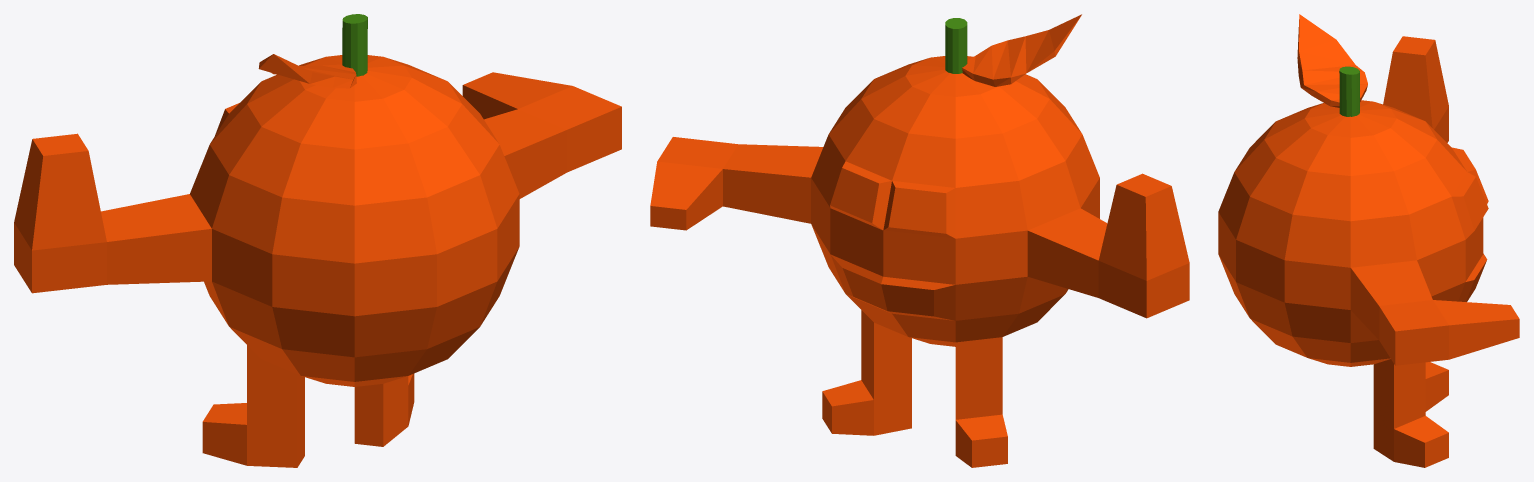
The model's file is Naranja 1.fbx.
3 views of the same model, side by side, from view 1: azimuth 30°, elevation 25°; view 2: azimuth 150°, elevation 25°; view 3: azimuth 270°, elevation 25° (orthographic). The views are drawn at different scales.
Parts seen in each view (by area): view 1: Sphere; view 2: Sphere; view 3: Sphere.
Part boxes in pixels (x1,y1,x2,y2): Sphere: (14, 14, 621, 467); Sphere: (650, 14, 1189, 467); Sphere: (1218, 14, 1519, 467).
Size of the model in its own units: 75.09 by 56.57 by 41.34.
